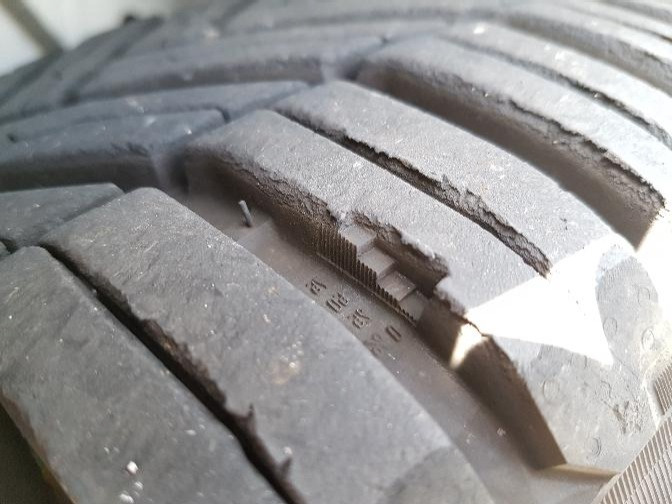temoin:90: (306, 191, 459, 334)
